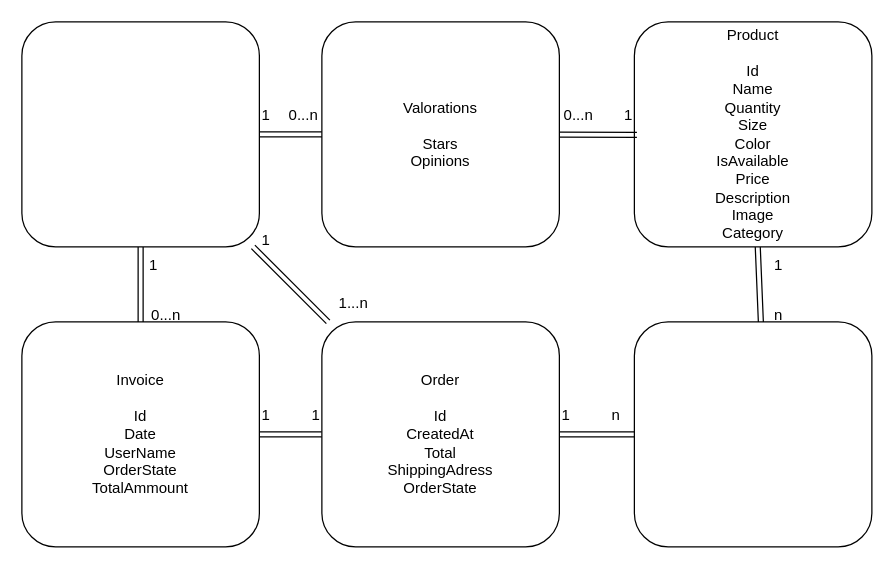
Some shapes in this 894 by 569 pixel diagram are drawn without their labels. Each missing label, with the centre of its shape:
"Order-line Id Name Quantity UnitPrice Total" goes at pixel 752 434.
"User Id Name Surname FullName Email Password Role" goes at pixel 140 134.
